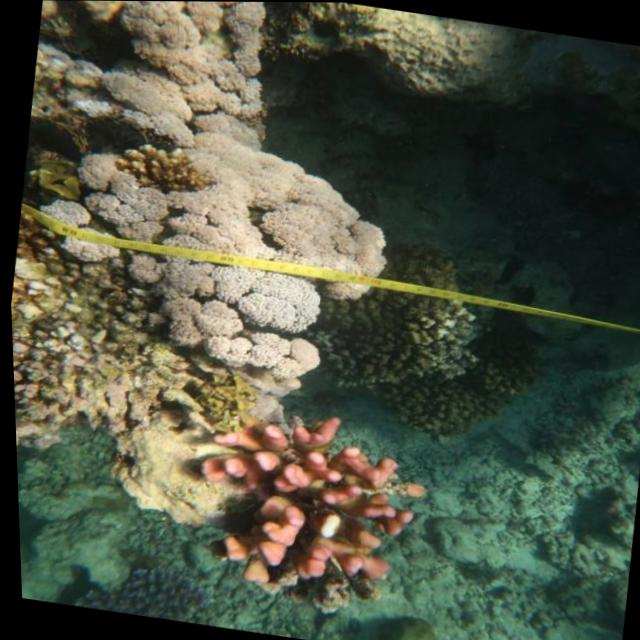Bleached Coral: (25, 116, 379, 380), (61, 0, 291, 153)
Dead Coral: (41, 547, 229, 628)
Healthy Coral: (197, 397, 425, 613)
